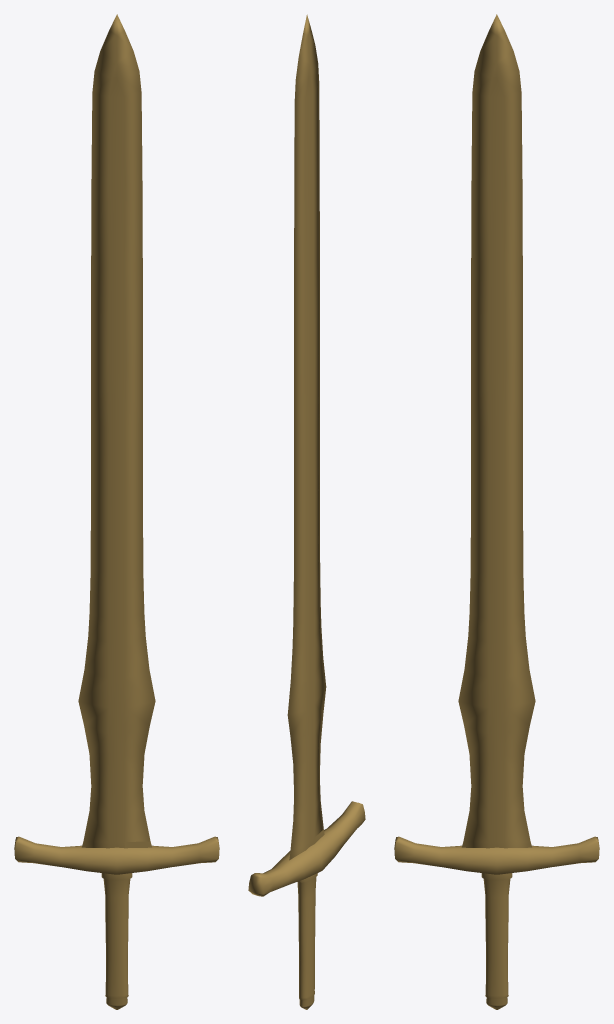
File: Sword.fbx
3 renders of one model, left to right at view 1: azimuth 90°, elevation 25°; view 2: azimuth 150°, elevation 25°; view 3: azimuth 270°, elevation 25°, orthographic.
Parts seen in each view (by area): view 1: _group3sword2_low, _sword3_lowgroup3, _group3sword_low; view 2: _group3sword2_low, _sword3_lowgroup3, _group3sword_low; view 3: _group3sword2_low, _sword3_lowgroup3, _group3sword_low.
Boxes of the visible parts, box(x1,y1,x2,y2) form: _group3sword2_low: box(78, 14, 155, 848); _sword3_lowgroup3: box(14, 836, 219, 874); _group3sword_low: box(101, 873, 132, 1009); _group3sword2_low: box(287, 14, 326, 860); _sword3_lowgroup3: box(248, 801, 365, 896); _group3sword_low: box(297, 873, 317, 1009); _group3sword2_low: box(458, 14, 535, 848); _sword3_lowgroup3: box(394, 836, 599, 874); _group3sword_low: box(481, 873, 512, 1009).
Size of the model in its own units: 3.68 by 114 by 21.28.
